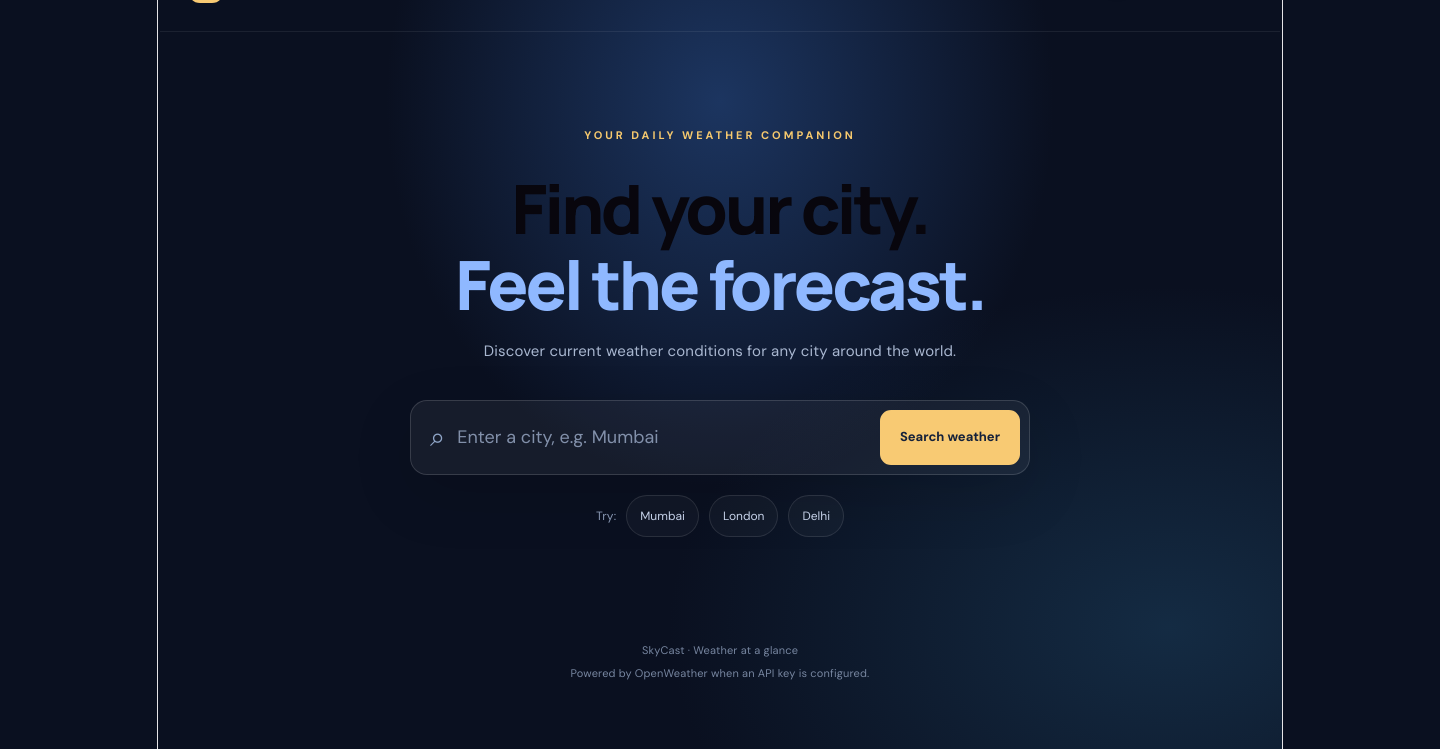
Test case: Weather Forecast Dashboard › displays the temperature for a supported city
Step 1. Type "Mumbai" into the field named "search city" → [663, 437], box [457,412,868,462]
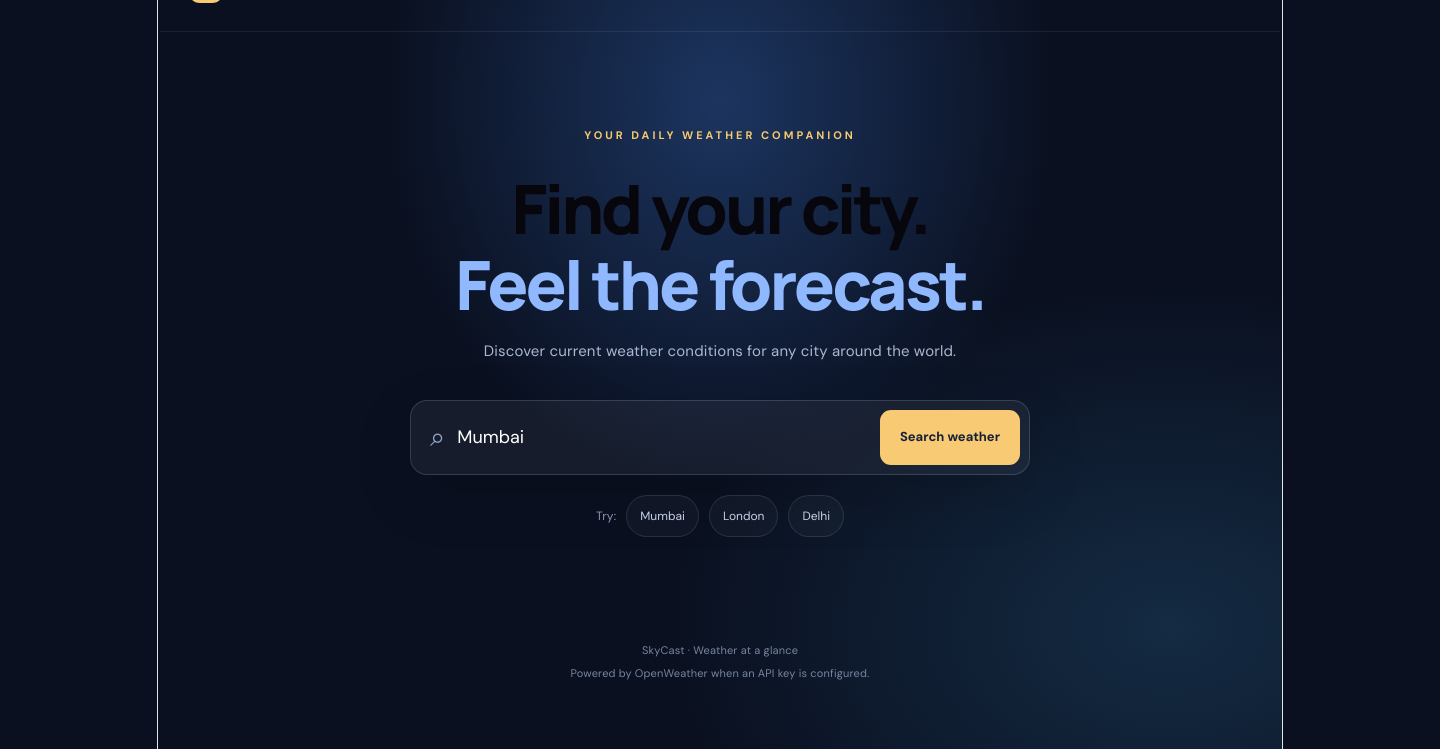
Step 2. Submit the form named "search city", box [410,400,1030,474]
(page scrolled)
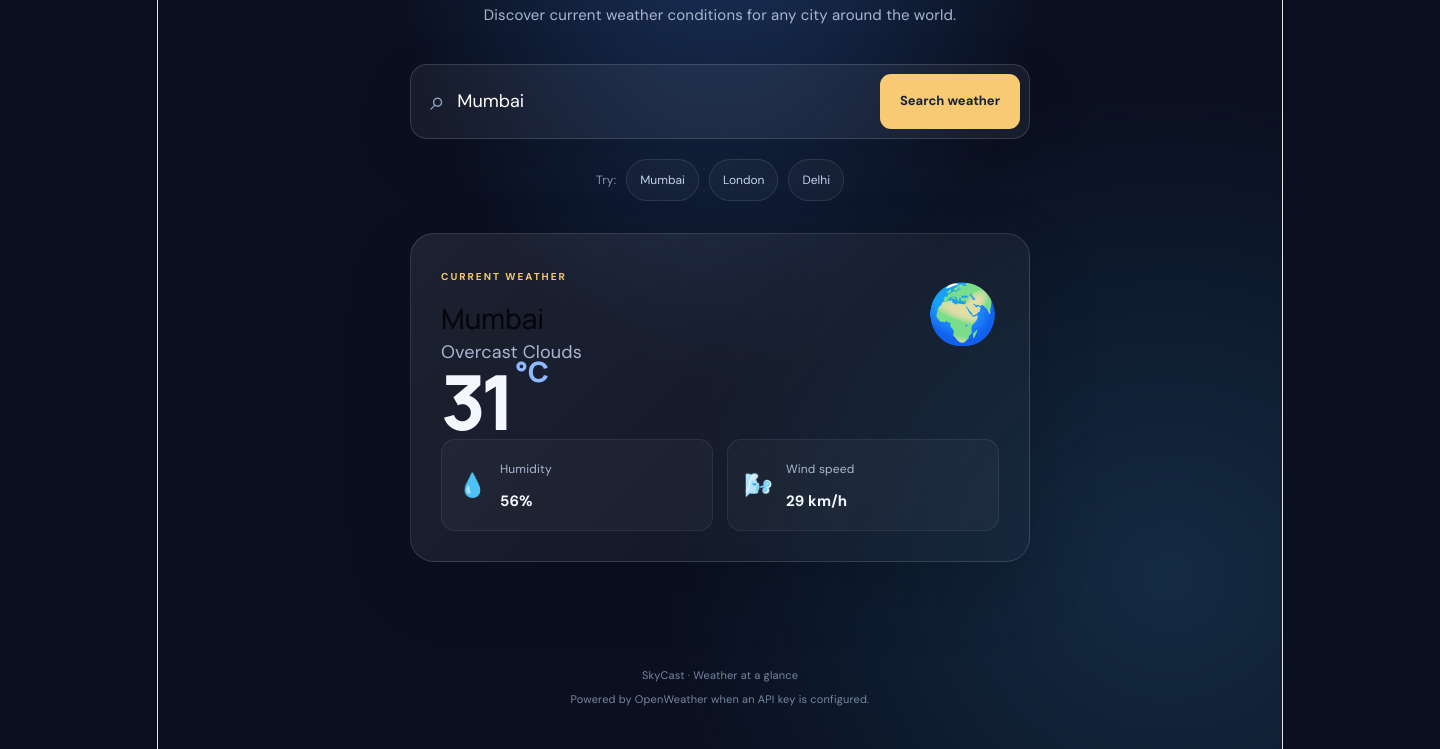
Now the heading "Mumbai" is shown, box [441,299,544,337]
Now the text "31" is shown, box [441,349,510,453]
